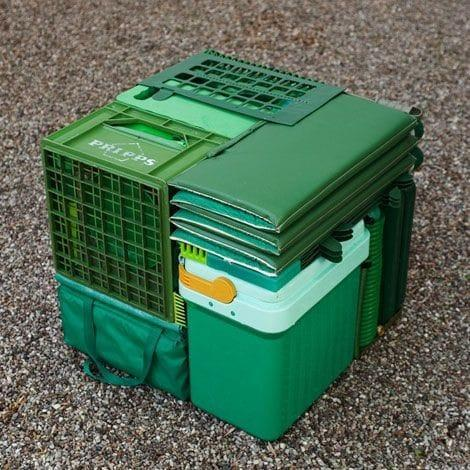cubos: (36, 38, 432, 450)
